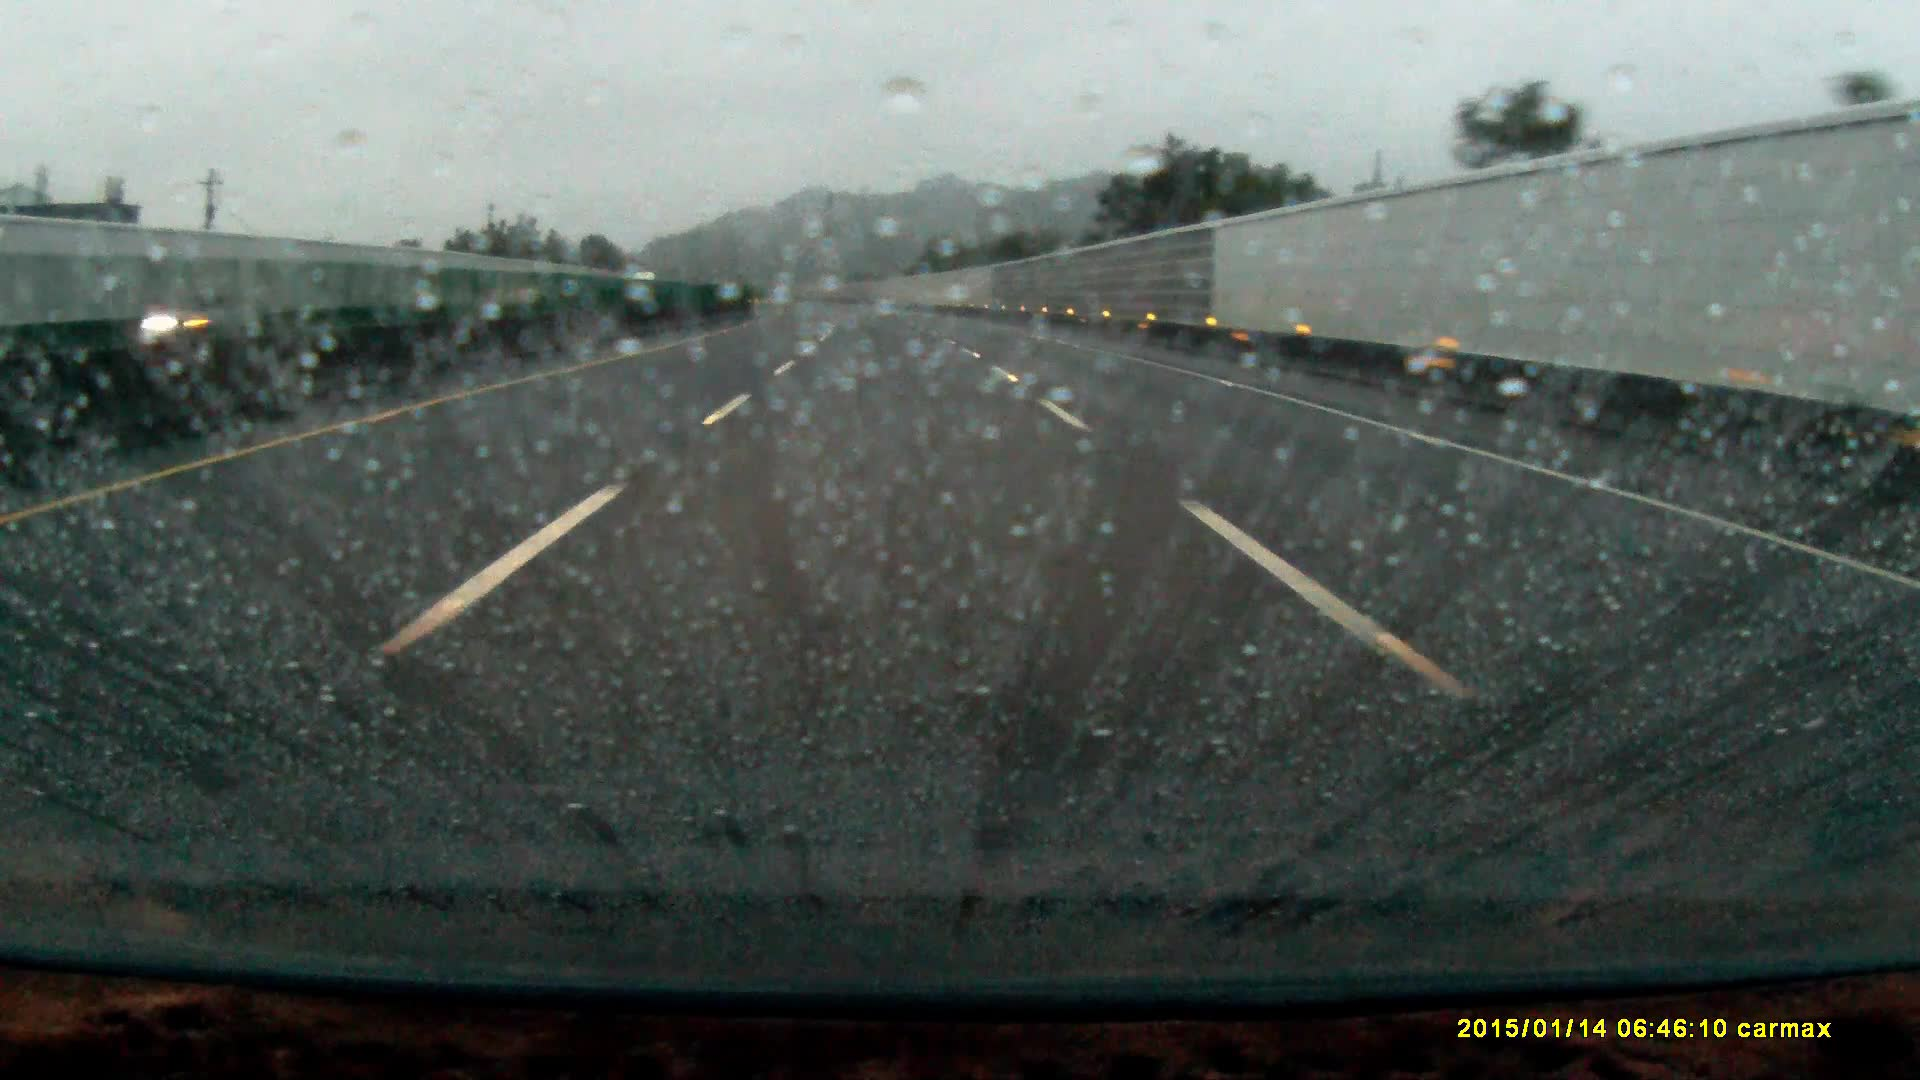vehicle: (157, 293, 229, 339)
